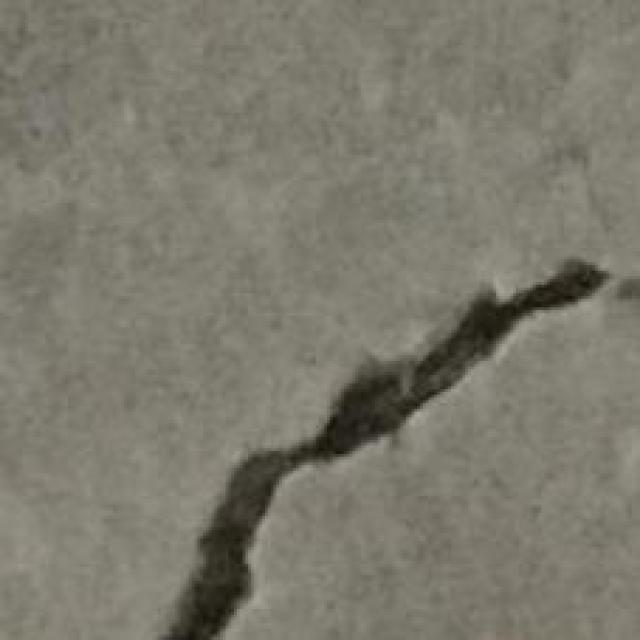Crack: (160, 254, 635, 640)
